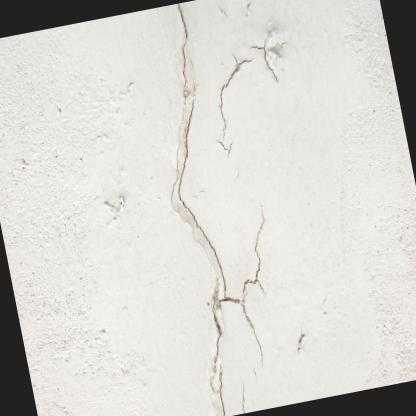crack: (167, 2, 264, 416), (217, 51, 249, 126)
